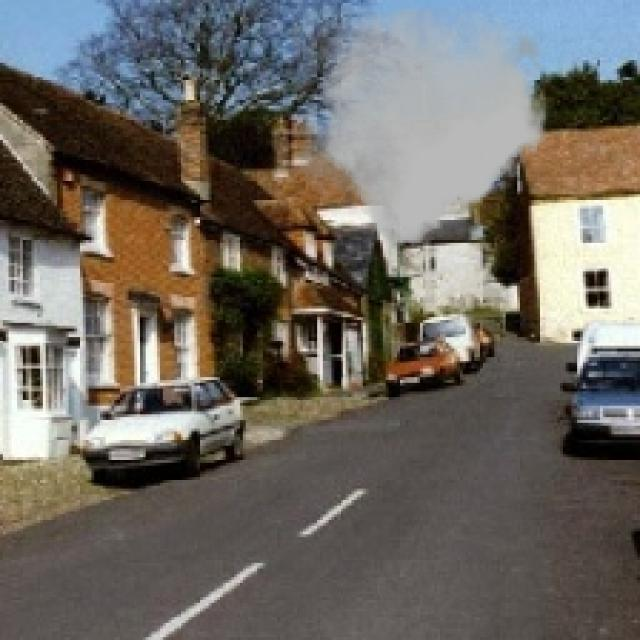smoke: (292, 8, 552, 245)
